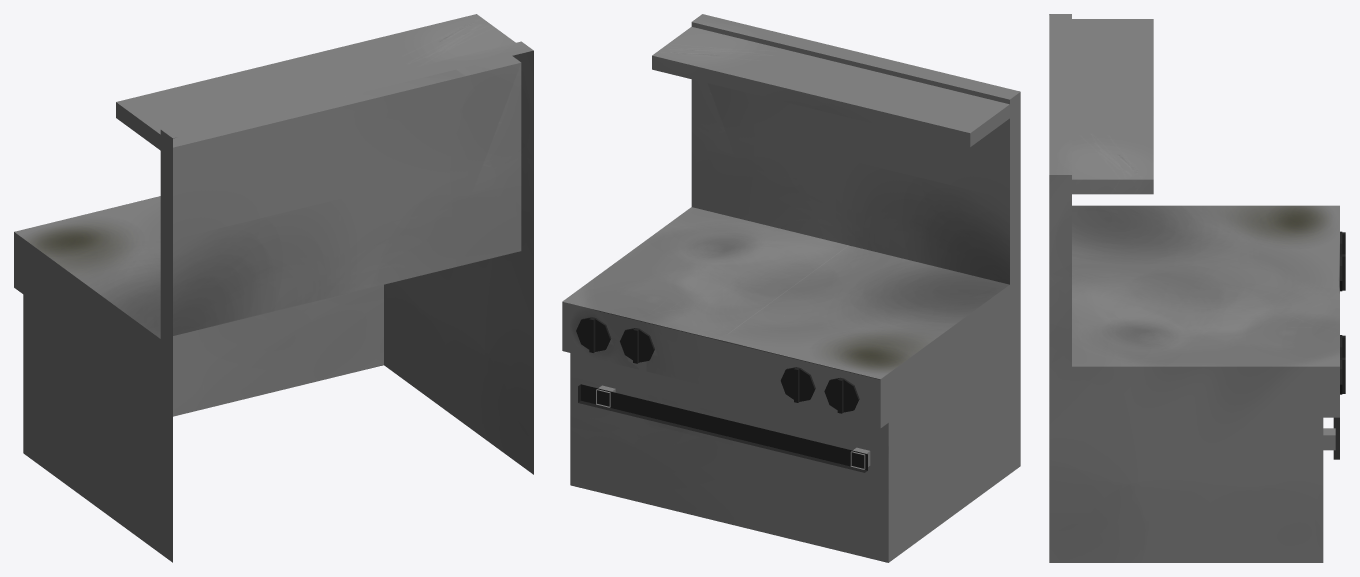
The model's file is Stove_GEO.fbx.
3 renders of one model, left to right at view 1: azimuth 30°, elevation 25°; view 2: azimuth 150°, elevation 25°; view 3: azimuth 270°, elevation 25°, orthographic. The views are drawn at different scales.
Parts seen in each view (by area): view 1: Cube; view 2: Cube; view 3: Cube.
Boxes of the visible parts, bbox=[...] form: Cube: bbox=[14, 14, 533, 562]; Cube: bbox=[562, 14, 1020, 562]; Cube: bbox=[1049, 14, 1345, 562].
Size of the model in its own units: 200 by 225 by 156.
1 material, 1 textured.
